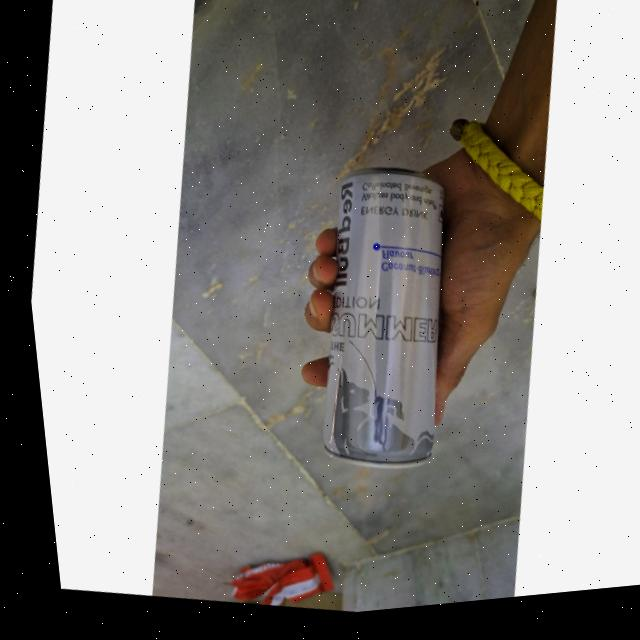Redbull Summer Edition: (285, 173, 469, 478)
